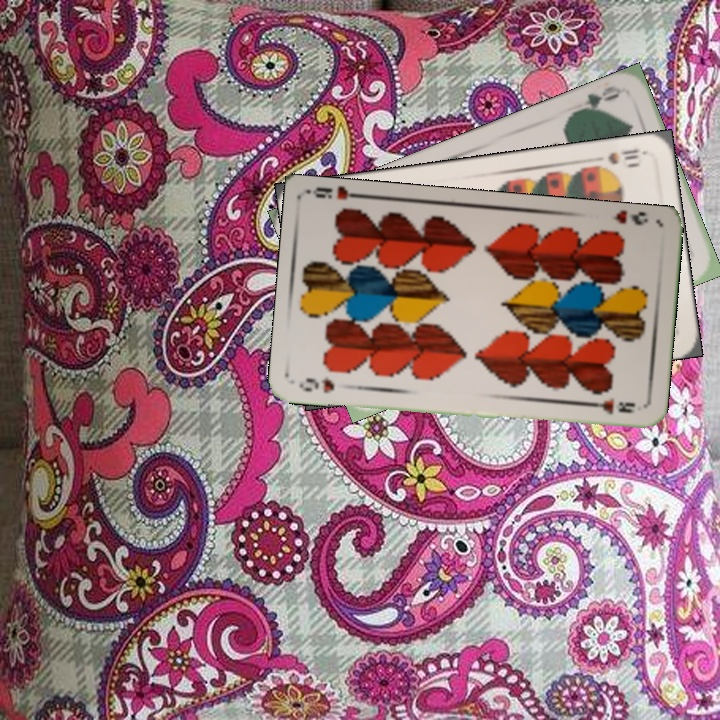GO: (568, 81, 623, 119)
H9: (295, 374, 337, 396), (610, 209, 650, 228)
S10: (590, 145, 648, 173)
